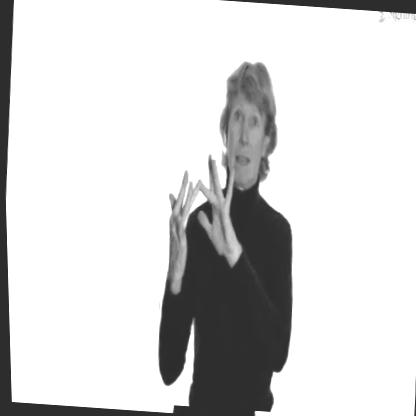Internet: (146, 56, 310, 413)
